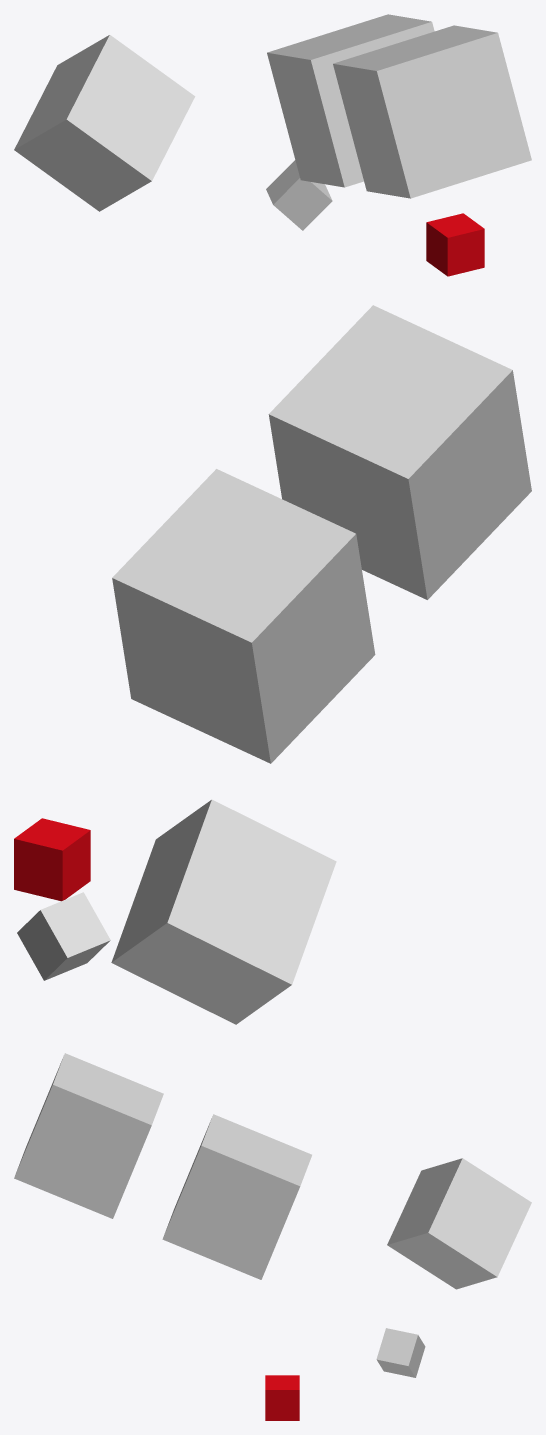
Rendered from educubes.glb.
3 views of the same model, one above another, from view 1: azimuth 30°, elevation 25°; view 2: azimuth 150°, elevation 25°; view 3: azimuth 270°, elevation 25° (orthographic). The views are drawn at different scales.
Parts seen in each view (by area): view 1: child, child2, parent, single, parent2; view 2: parent, child, child2, single, parent2; view 3: child, parent, child2, parent2, single.
Boxes of the visible parts, x1,y1,x2,y2 form: child: (333,25,531,198); child2: (14,35,195,211); parent: (267,14,434,187); single: (426,213,484,276); parent2: (266,160,332,230); parent: (112,469,375,763); child: (268,305,531,599); child2: (111,799,336,1024); single: (14,818,90,901); parent2: (17,892,110,980); child: (14,1053,163,1218); parent: (162,1114,311,1279); child2: (387,1158,531,1289); parent2: (376,1328,425,1377); single: (265,1375,299,1420).
Bounding box in the file's own units: 17.85 × 18.63 × 30.2.
